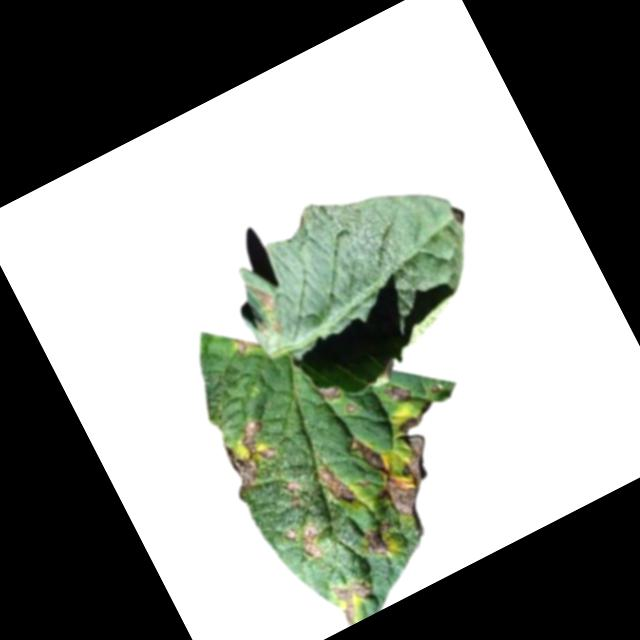Early_blight: (344, 410, 454, 530), (207, 413, 289, 501), (327, 570, 383, 627), (239, 279, 289, 340), (284, 515, 332, 566), (316, 458, 360, 511), (392, 402, 436, 436), (360, 524, 391, 560), (230, 327, 263, 360), (280, 476, 308, 513), (382, 376, 414, 408), (317, 379, 344, 404), (340, 399, 359, 417)
